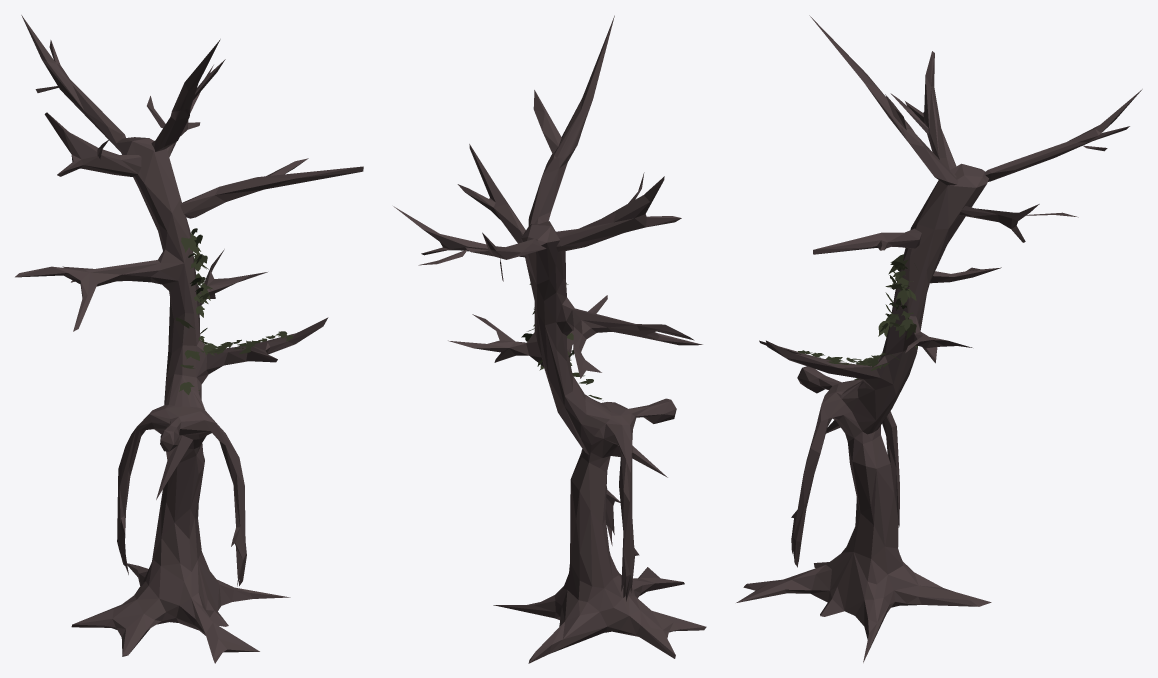
Rendered from tree1.fbx.
The picture shows the model from 3 angles, left to right: view 1: azimuth 30°, elevation 25°; view 2: azimuth 150°, elevation 25°; view 3: azimuth 270°, elevation 25°; orthographic projection.
Parts seen in each view (by area): view 1: IvyLeaf; view 2: IvyLeaf; view 3: IvyLeaf.
Part boxes in pixels (<box>): IvyLeaf: <box>15,15,363,663</box>; IvyLeaf: <box>393,15,706,663</box>; IvyLeaf: <box>736,15,1142,662</box>.
Size of the model in its own units: 2189 by 4359 by 2675.
